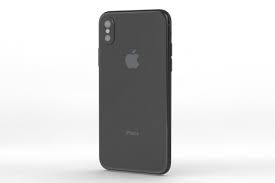iphone: (95, 6, 173, 181)
